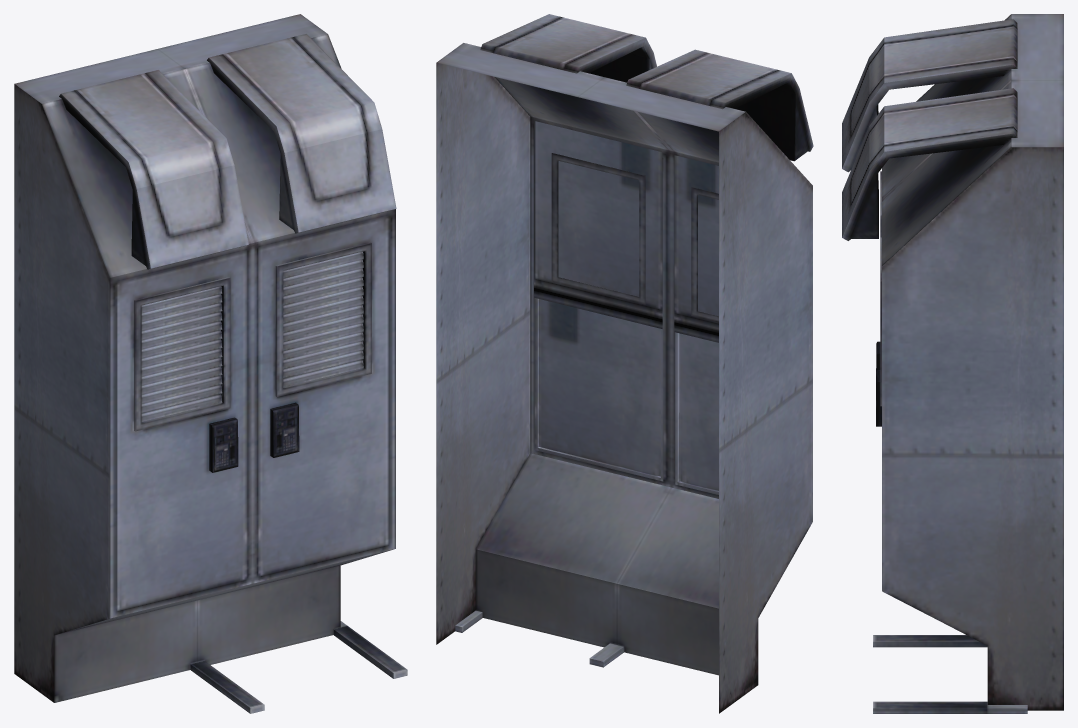
Rendered from A-CM_X360_PROP_Locker_B.obj.
3 renders of one model, left to right at view 1: azimuth 30°, elevation 25°; view 2: azimuth 150°, elevation 25°; view 3: azimuth 270°, elevation 25°, orthographic. The views are drawn at different scales.
Bounding box in the file's own units: 1.25 × 2.42 × 0.8581.
1 material, 1 textured.
